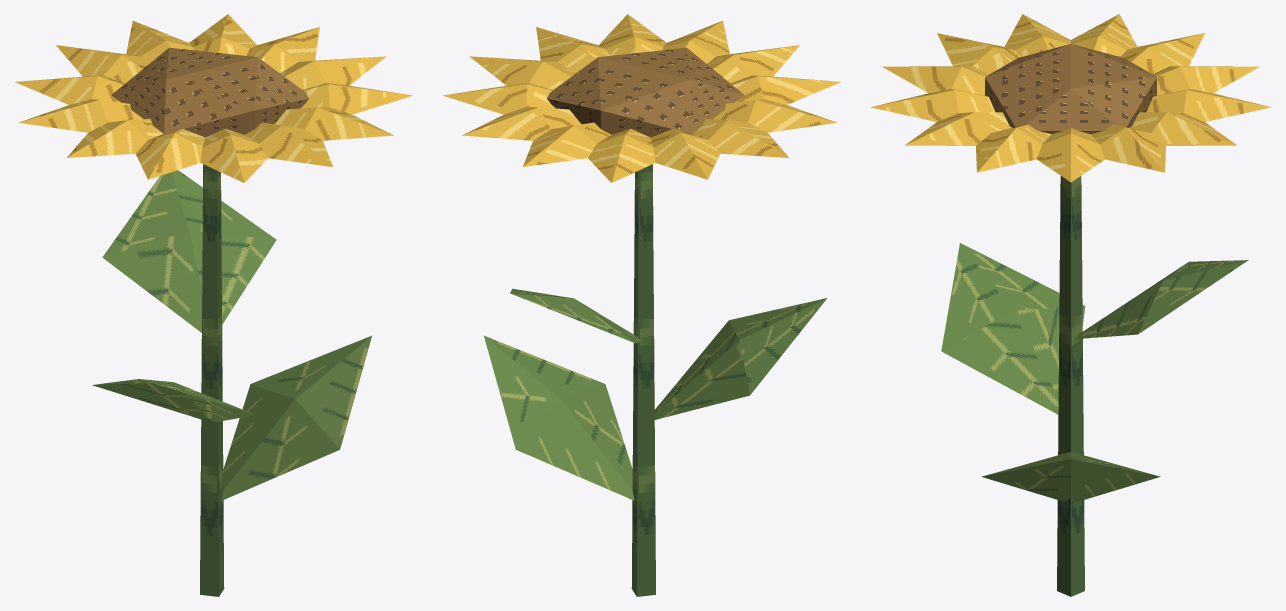
File: flor-girassol-v01.gltf
The picture shows the model from 3 angles, left to right: view 1: azimuth 30°, elevation 25°; view 2: azimuth 150°, elevation 25°; view 3: azimuth 270°, elevation 25°; orthographic projection.
Parts seen in each view (by area): view 1: folhas, petalas, miolo, hastes; view 2: petalas, folhas, miolo, hastes; view 3: petalas, folhas, miolo, hastes.
Boxes of the visible parts, <box> form: folhas: <box>92,170,371,500</box>; petalas: <box>15,14,412,182</box>; miolo: <box>111,47,308,137</box>; hastes: <box>200,164,224,596</box>; petalas: <box>443,14,840,182</box>; folhas: <box>484,288,827,500</box>; miolo: <box>547,47,744,137</box>; hastes: <box>631,164,655,596</box>; petalas: <box>871,14,1270,182</box>; folhas: <box>941,243,1248,501</box>; miolo: <box>985,44,1156,133</box>; hastes: <box>1057,176,1084,596</box>.
Bounding box in the file's own units: 0.7095 × 1.03 × 0.7148.
Materials: 1 (1 with a texture image).
